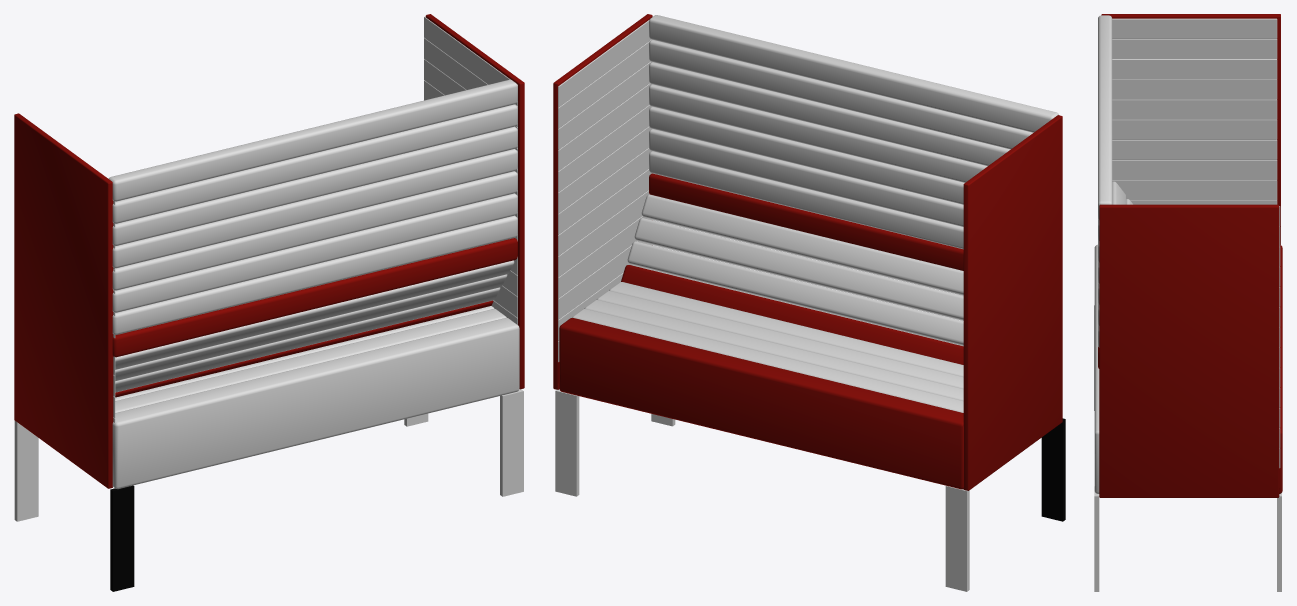
The model's file is красный диван 1.fbx.
3 renders of one model, left to right at view 1: azimuth 30°, elevation 25°; view 2: azimuth 150°, elevation 25°; view 3: azimuth 270°, elevation 25°, orthographic. The views are drawn at different scales.
Parts seen in each view (by area): view 1: Cube_7_3, Cube, Cube_7_4, Cube_6_4, Cube_0_5, Cube_4_4, Cube_3_5, Cube_2_6, Cube_5_4, Cube_1_5, Cube_3_4, Cube_6_3 (+11 smaller); view 2: Cube_0_3, Cube, Cube_7_4, Cube_6_4, Cube_1_4, Cube_2_5, Cube_3_4, Cube_5_4, Cube_4_4, Cube_3_5, Cube_1_5, Cube_2_6 (+21 smaller); view 3: Cube_2_2, Cube_6, Cube_8, Cube_10, Cube_11, Cube_13, Cube_9, Cube_7, Cube_12, Cube_5, Cube_7_4, Cube (+6 smaller).
Part boxes in pixels (x1=…): Cube_7_3: x1=112, y1=318, x2=519, y2=488; Cube: x1=14, y1=113, x2=113, y2=488; Cube_7_4: x1=108, y1=79, x2=517, y2=201; Cube_6_4: x1=112, y1=104, x2=517, y2=223; Cube_0_5: x1=112, y1=238, x2=517, y2=357; Cube_4_4: x1=112, y1=149, x2=517, y2=268; Cube_3_5: x1=112, y1=171, x2=517, y2=290; Cube_2_6: x1=112, y1=193, x2=517, y2=312; Cube_5_4: x1=112, y1=126, x2=517, y2=246; Cube_1_5: x1=112, y1=215, x2=517, y2=334; Cube_3_4: x1=115, y1=260, x2=514, y2=369; Cube_6_3: x1=115, y1=309, x2=506, y2=412; Cube_0_3: x1=559, y1=318, x2=963, y2=489; Cube: x1=963, y1=115, x2=1062, y2=490; Cube_7_4: x1=649, y1=15, x2=1058, y2=132; Cube_6_4: x1=649, y1=40, x2=1033, y2=149; Cube_1_4: x1=627, y1=241, x2=963, y2=345; Cube_2_5: x1=634, y1=218, x2=963, y2=320; Cube_3_4: x1=641, y1=194, x2=963, y2=295; Cube_5_4: x1=649, y1=62, x2=1010, y2=165; Cube_4_4: x1=649, y1=84, x2=987, y2=182; Cube_3_5: x1=649, y1=106, x2=964, y2=204; Cube_1_5: x1=649, y1=151, x2=963, y2=249; Cube_2_6: x1=649, y1=129, x2=963, y2=226; Cube_2_2: x1=1099, y1=204, x2=1279, y2=497; Cube_6: x1=1112, y1=160, x2=1277, y2=180; Cube_8: x1=1112, y1=119, x2=1277, y2=139; Cube_10: x1=1112, y1=79, x2=1277, y2=99; Cube_11: x1=1112, y1=59, x2=1277, y2=79; Cube_13: x1=1112, y1=18, x2=1277, y2=38; Cube_9: x1=1112, y1=99, x2=1277, y2=119; Cube_7: x1=1112, y1=140, x2=1277, y2=159; Cube_12: x1=1112, y1=39, x2=1277, y2=58; Cube_5: x1=1112, y1=180, x2=1277, y2=200; Cube_7_4: x1=1098, y1=15, x2=1112, y2=220; Cube: x1=1101, y1=14, x2=1280, y2=244.
Bounding box in the file's own units: 411 × 385 × 169.
